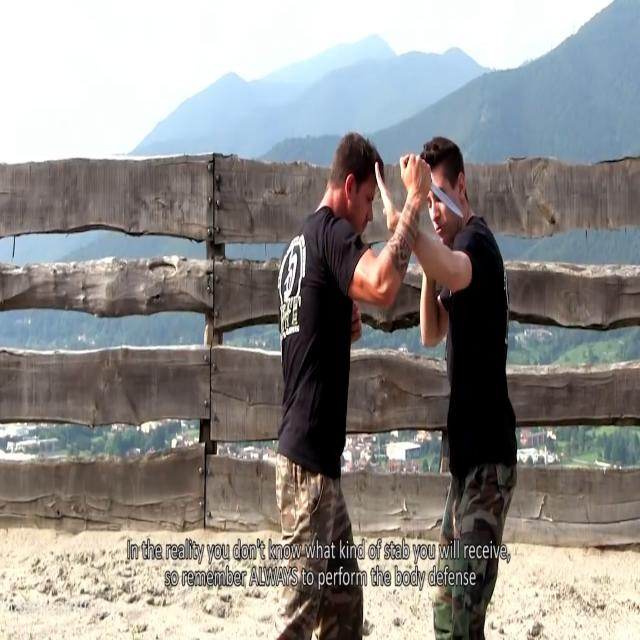knife: (431, 180, 465, 230)
